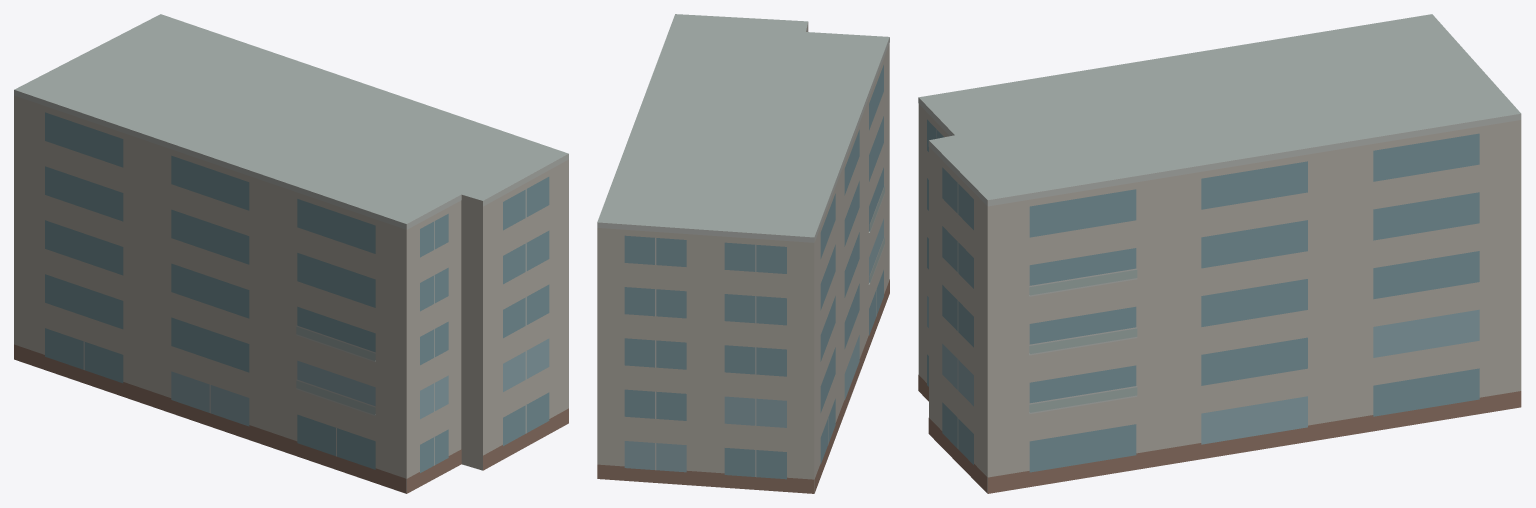
Rendered from survey-upis-32751069.glb.
The picture shows the model from 3 angles, left to right: view 1: azimuth 30°, elevation 25°; view 2: azimuth 150°, elevation 25°; view 3: azimuth 270°, elevation 25°; orthographic projection. The views are drawn at different scales.
Visible parts, largest first — view 1: survey-upis-32751069.tmp; view 2: survey-upis-32751069.tmp; view 3: survey-upis-32751069.tmp.
Part boxes in pixels (x1=…): survey-upis-32751069.tmp: x1=14, y1=14, x2=568, y2=493; survey-upis-32751069.tmp: x1=597, y1=14, x2=889, y2=493; survey-upis-32751069.tmp: x1=918, y1=14, x2=1521, y2=493.
Bounding box in the file's own units: 15.65 × 11.5 × 21.41.
